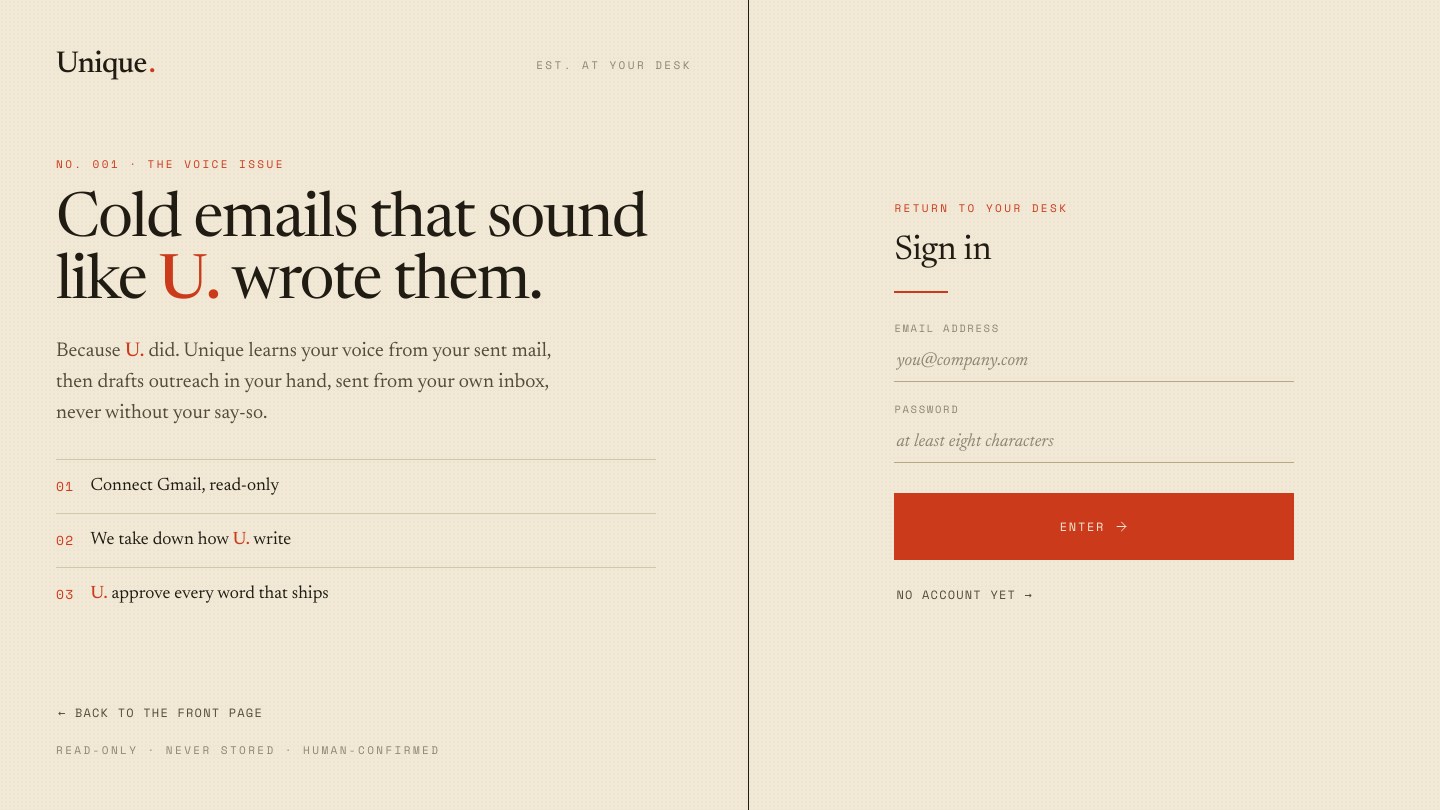
Test case: AuthPage › asks for the full name on signup only, never on sign-in
Expected: the field labelled "Full name" is not shown
Click the button "No account yet →" at (965, 595), box top-left (894, 580), bottom-right (1035, 610)
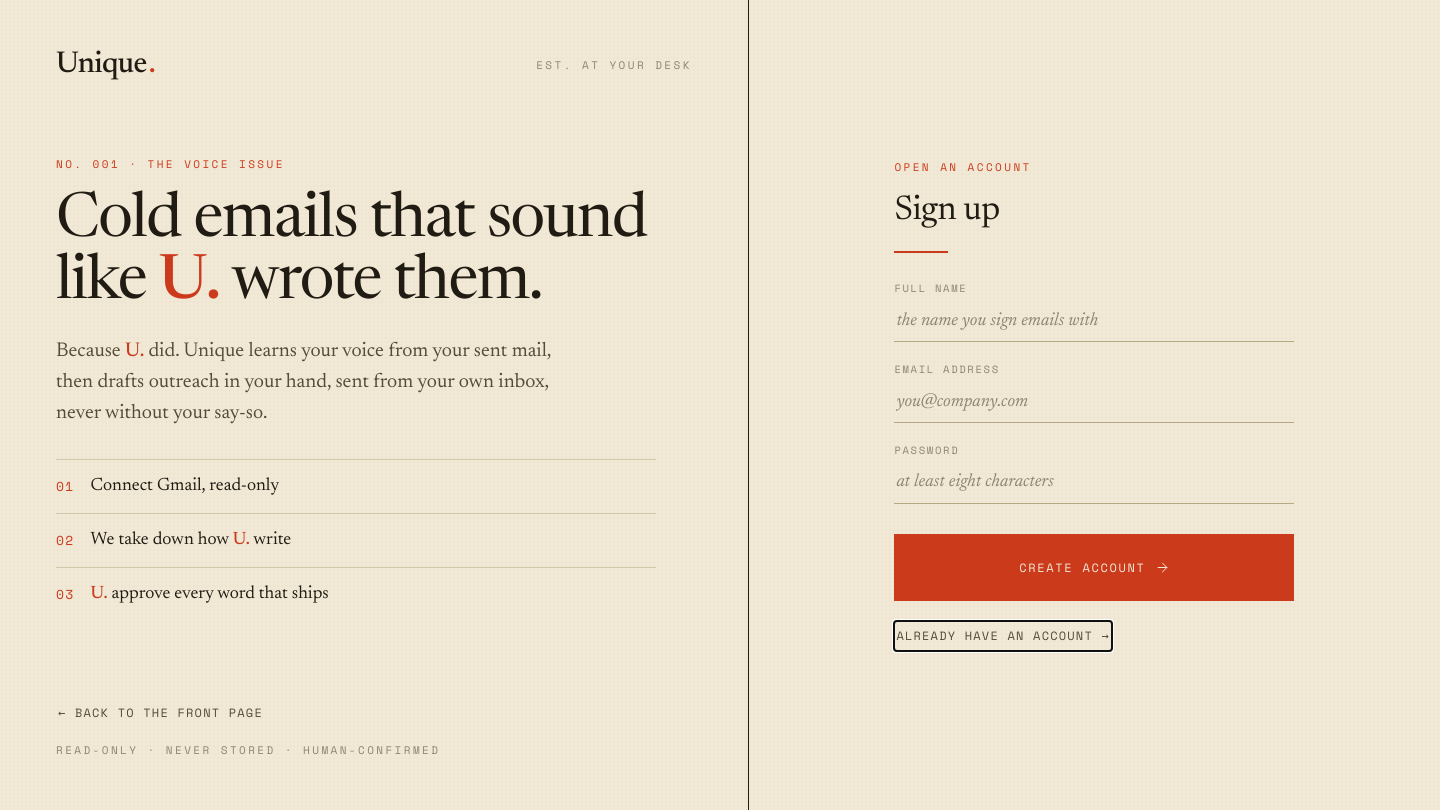
Now the field labelled "Full name" is shown, box top-left (894, 302), bottom-right (1294, 342)
